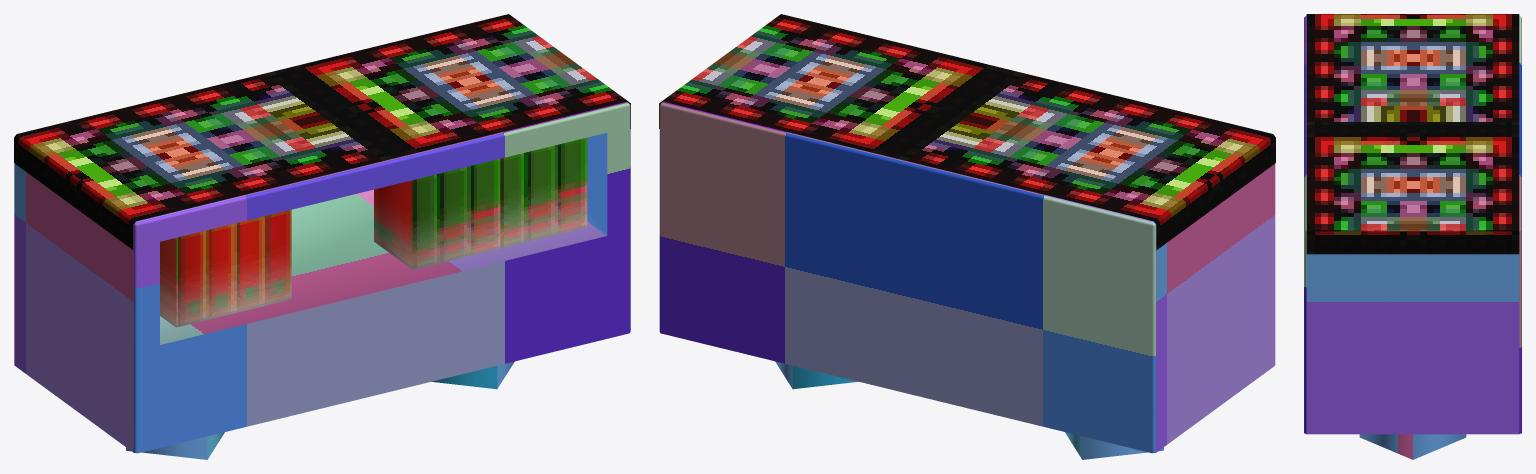
Rendered from rmk_log_bookshelf_jwl.dae.
3 renders of one model, left to right at view 1: azimuth 30°, elevation 25°; view 2: azimuth 150°, elevation 25°; view 3: azimuth 270°, elevation 25°, orthographic. The views are drawn at different scales.
Visible parts, largest first — view 1: rmk_log_bookshelf_jwl; view 2: rmk_log_bookshelf_jwl; view 3: rmk_log_bookshelf_jwl.
Part boxes in pixels (left/top/right/bottom): rmk_log_bookshelf_jwl: left=14, top=14, right=630, bottom=459; rmk_log_bookshelf_jwl: left=659, top=14, right=1275, bottom=459; rmk_log_bookshelf_jwl: left=1304, top=14, right=1521, bottom=459.
Bounding box in the file's own units: 48.06 × 26.32 × 20.48.
Materials: 3 (3 with a texture image).
